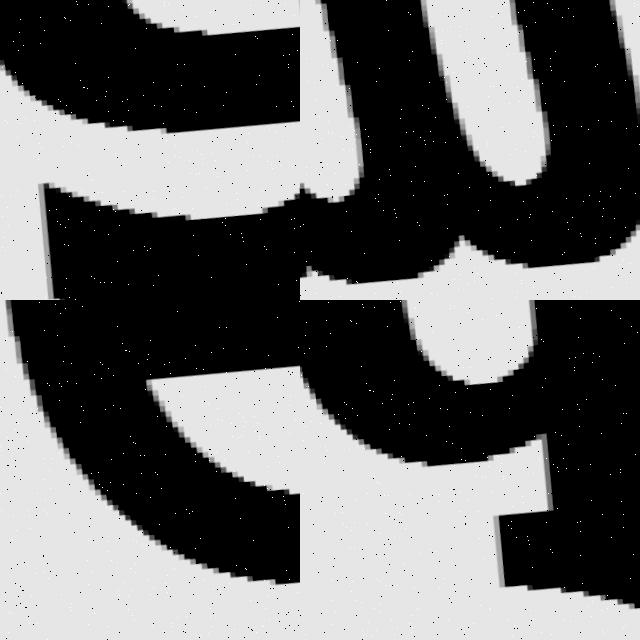A: (0, 0, 300, 300)
D: (300, 300, 640, 640)
E: (13, 300, 300, 579)
M: (300, 0, 640, 300)
